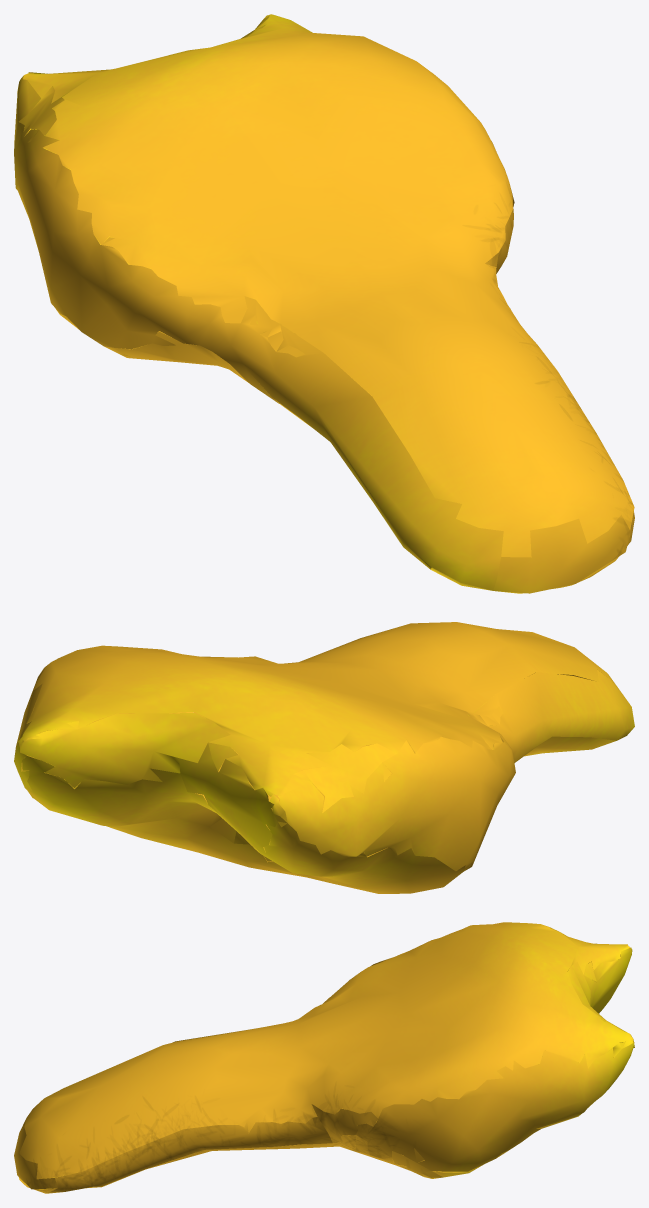
File: beak_bottom.gltf
3 views of the same model, one above another, from view 1: azimuth 30°, elevation 25°; view 2: azimuth 150°, elevation 25°; view 3: azimuth 270°, elevation 25° (orthographic). The views are drawn at different scales.
Visible parts, largest first — view 1: Cube.003; view 2: Cube.003; view 3: Cube.003.
Boxes of the visible parts, x1=… form: Cube.003: x1=14, y1=14, x2=634, y2=593; Cube.003: x1=14, y1=622, x2=634, y2=893; Cube.003: x1=14, y1=922, x2=634, y2=1193.
Size of the model in its own units: 1.03 by 0.6649 by 1.75.
1 material, 1 textured.
